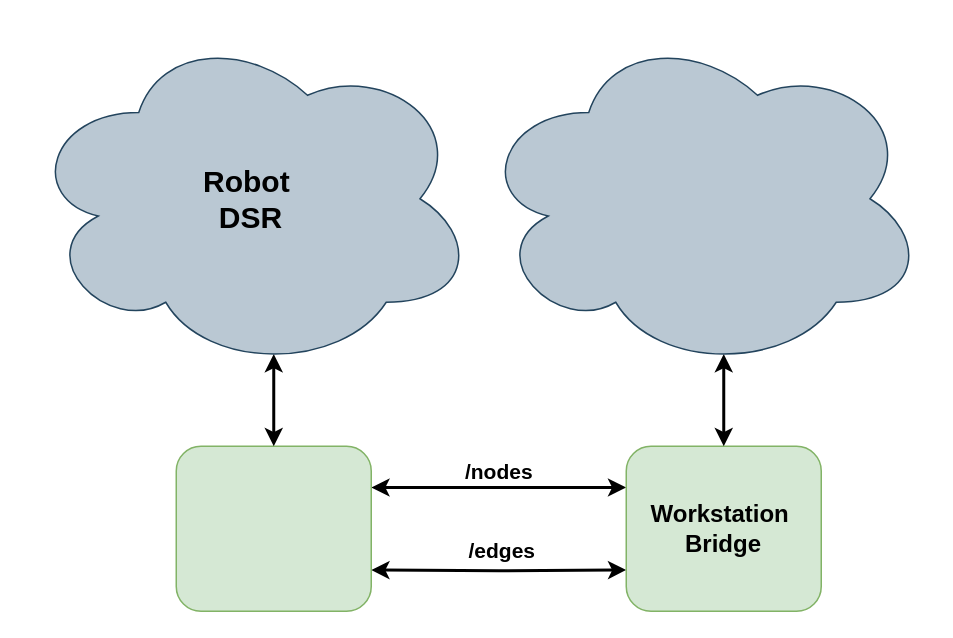
The diagram is 953 pixels wide and 638 high, and some of its shapes have lost their labels. The shapes that lost their labels are listed below. From the top down, each one's box as (x1, y1, x2, y2) in pixels, then its label:
(475, 25, 926, 371): Workstation DSR
(175, 445, 371, 611): Robot Bridge
